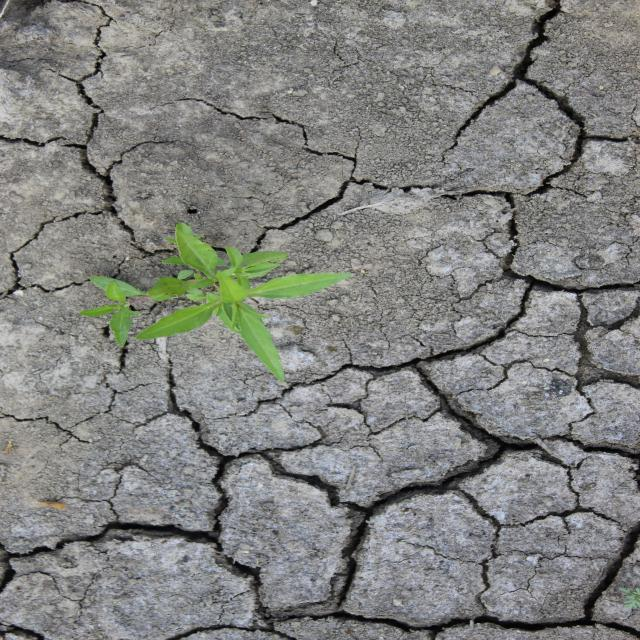Eclipta: (76, 222, 357, 384)
